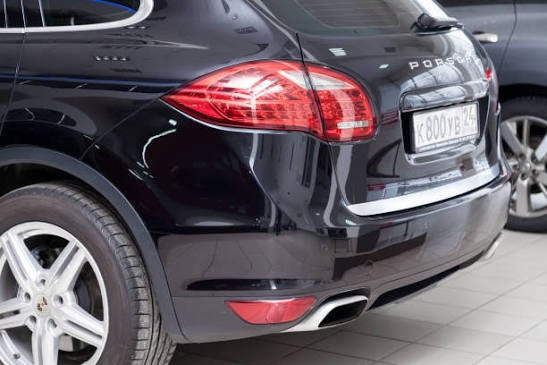car: (1, 1, 530, 359), (1, 1, 522, 357), (21, 2, 520, 131), (270, 1, 541, 130), (368, 1, 544, 121), (448, 1, 544, 150), (423, 1, 543, 108)
